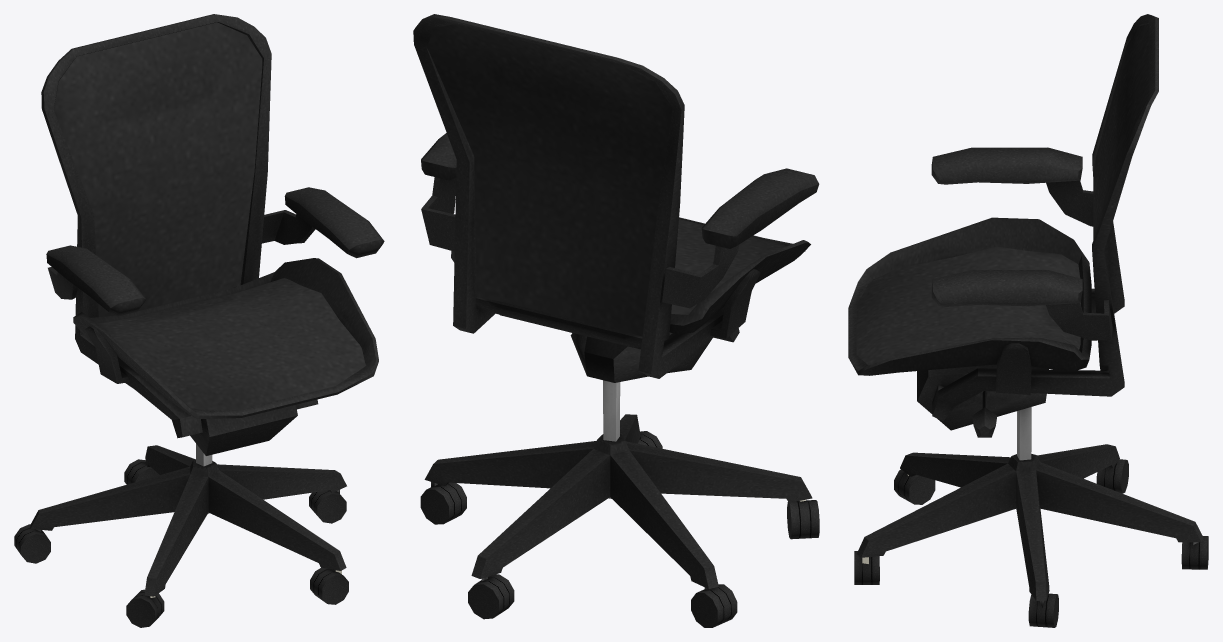
Rendered from Chair.FBX.
3 renders of one model, left to right at view 1: azimuth 30°, elevation 25°; view 2: azimuth 150°, elevation 25°; view 3: azimuth 270°, elevation 25°, orthographic. The views are drawn at different scales.
Visible parts, largest first — view 1: Chair; view 2: Chair; view 3: Chair.
Boxes of the visible parts, x1,y1,x2,y2 form: Chair: (14,14,384,627); Chair: (413,14,819,627); Chair: (848,14,1208,627).
Bounding box in the file's own units: 0.6633 × 1.04 × 0.6703.
